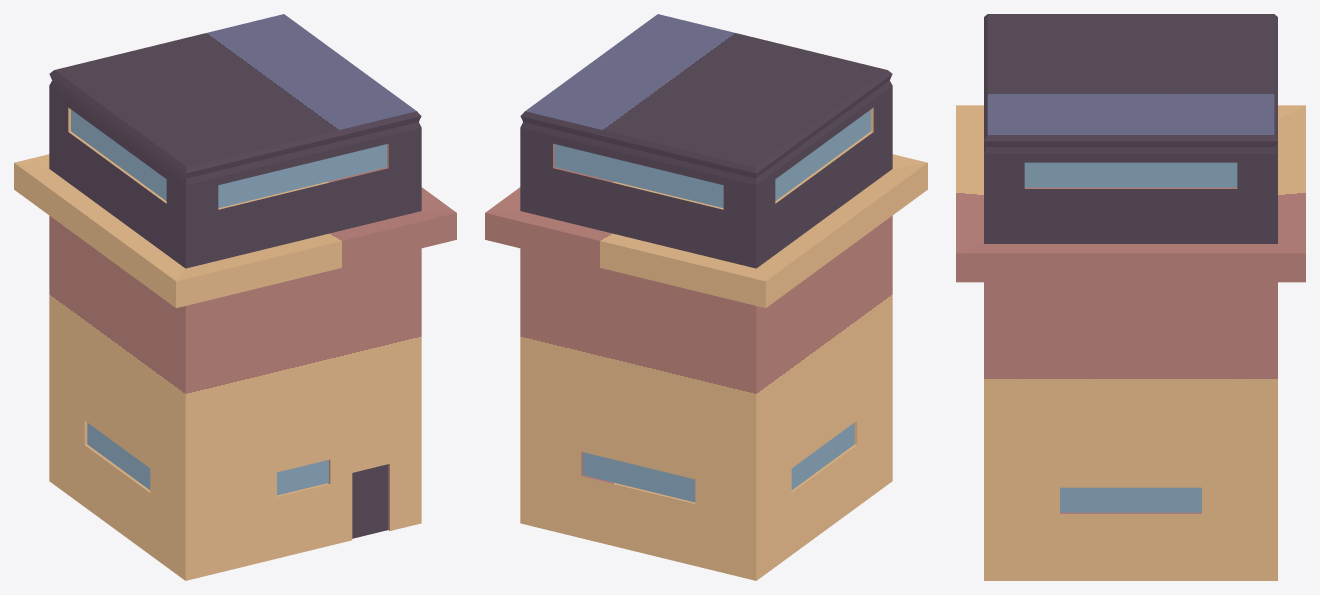
File: Building2-TallBasicModel.glb
The picture shows the model from 3 angles, left to right: view 1: azimuth 30°, elevation 25°; view 2: azimuth 150°, elevation 25°; view 3: azimuth 270°, elevation 25°; orthographic projection. The views are drawn at different scales.
Parts seen in each view (by area): view 1: Cube.011; view 2: Cube.011; view 3: Cube.011.
Boxes of the visible parts, x1,y1,x2,y2 form: Cube.011: [14, 14, 456, 580]; Cube.011: [485, 14, 927, 580]; Cube.011: [956, 14, 1305, 580].
Bounding box in the file's own units: 4.62 × 6.48 × 4.62.
Materials: 1 (1 with a texture image).
